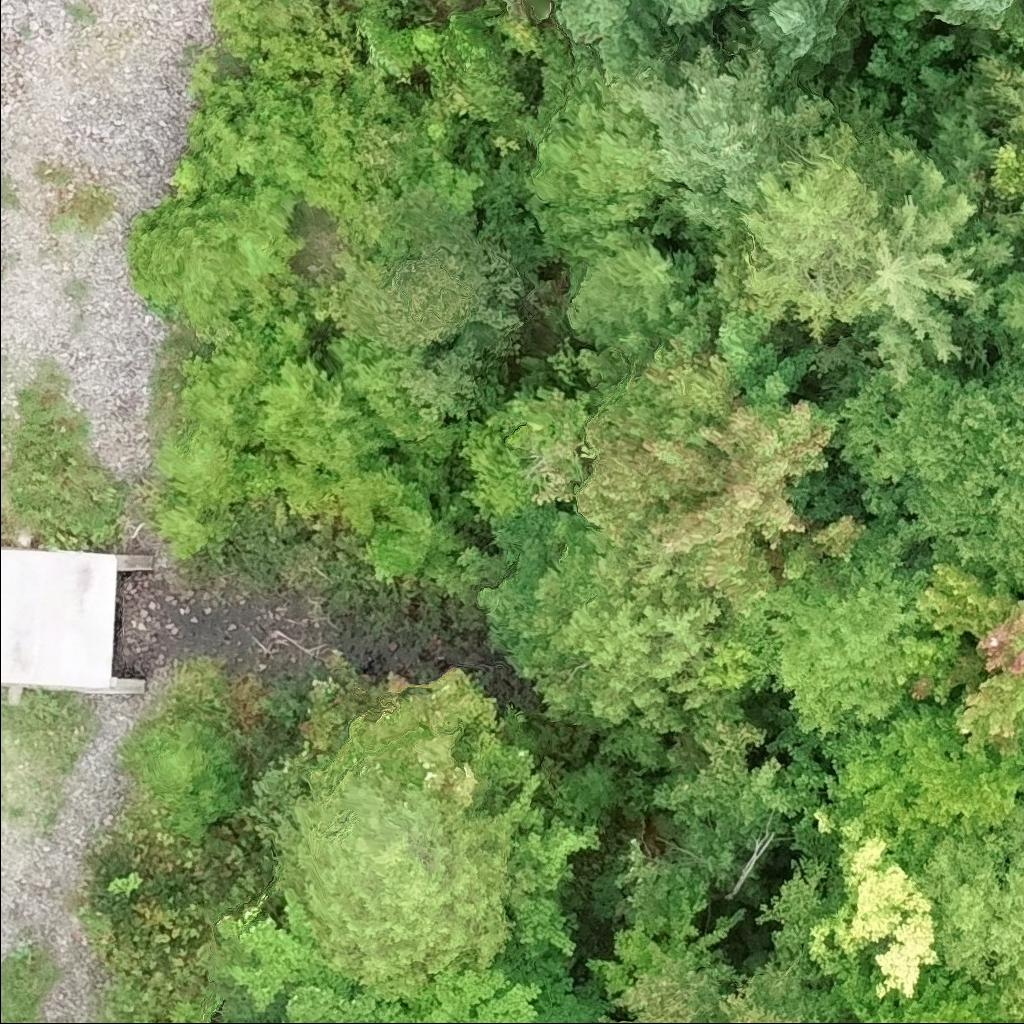crown: (569, 340, 840, 628), (272, 751, 532, 1002), (481, 510, 724, 742), (823, 353, 1023, 598), (624, 42, 835, 240), (862, 133, 1018, 396), (769, 543, 964, 746), (736, 117, 892, 340), (823, 698, 1023, 871), (807, 808, 942, 997), (648, 706, 826, 844), (600, 919, 811, 1023), (915, 561, 1023, 764), (913, 791, 1023, 988), (337, 669, 498, 803), (503, 765, 604, 961), (217, 883, 359, 1016), (174, 337, 281, 449), (363, 481, 473, 586), (851, 955, 1018, 1023), (238, 354, 342, 453), (125, 717, 235, 802), (383, 965, 542, 1023), (285, 396, 398, 476), (150, 418, 248, 508), (158, 757, 248, 839), (752, 0, 859, 68), (129, 193, 193, 305), (151, 491, 242, 558), (280, 984, 406, 1023), (989, 263, 1023, 358), (916, 0, 1018, 31), (668, 0, 740, 33), (745, 0, 811, 32), (994, 196, 1023, 264), (994, 141, 1023, 201), (487, 0, 522, 8)
